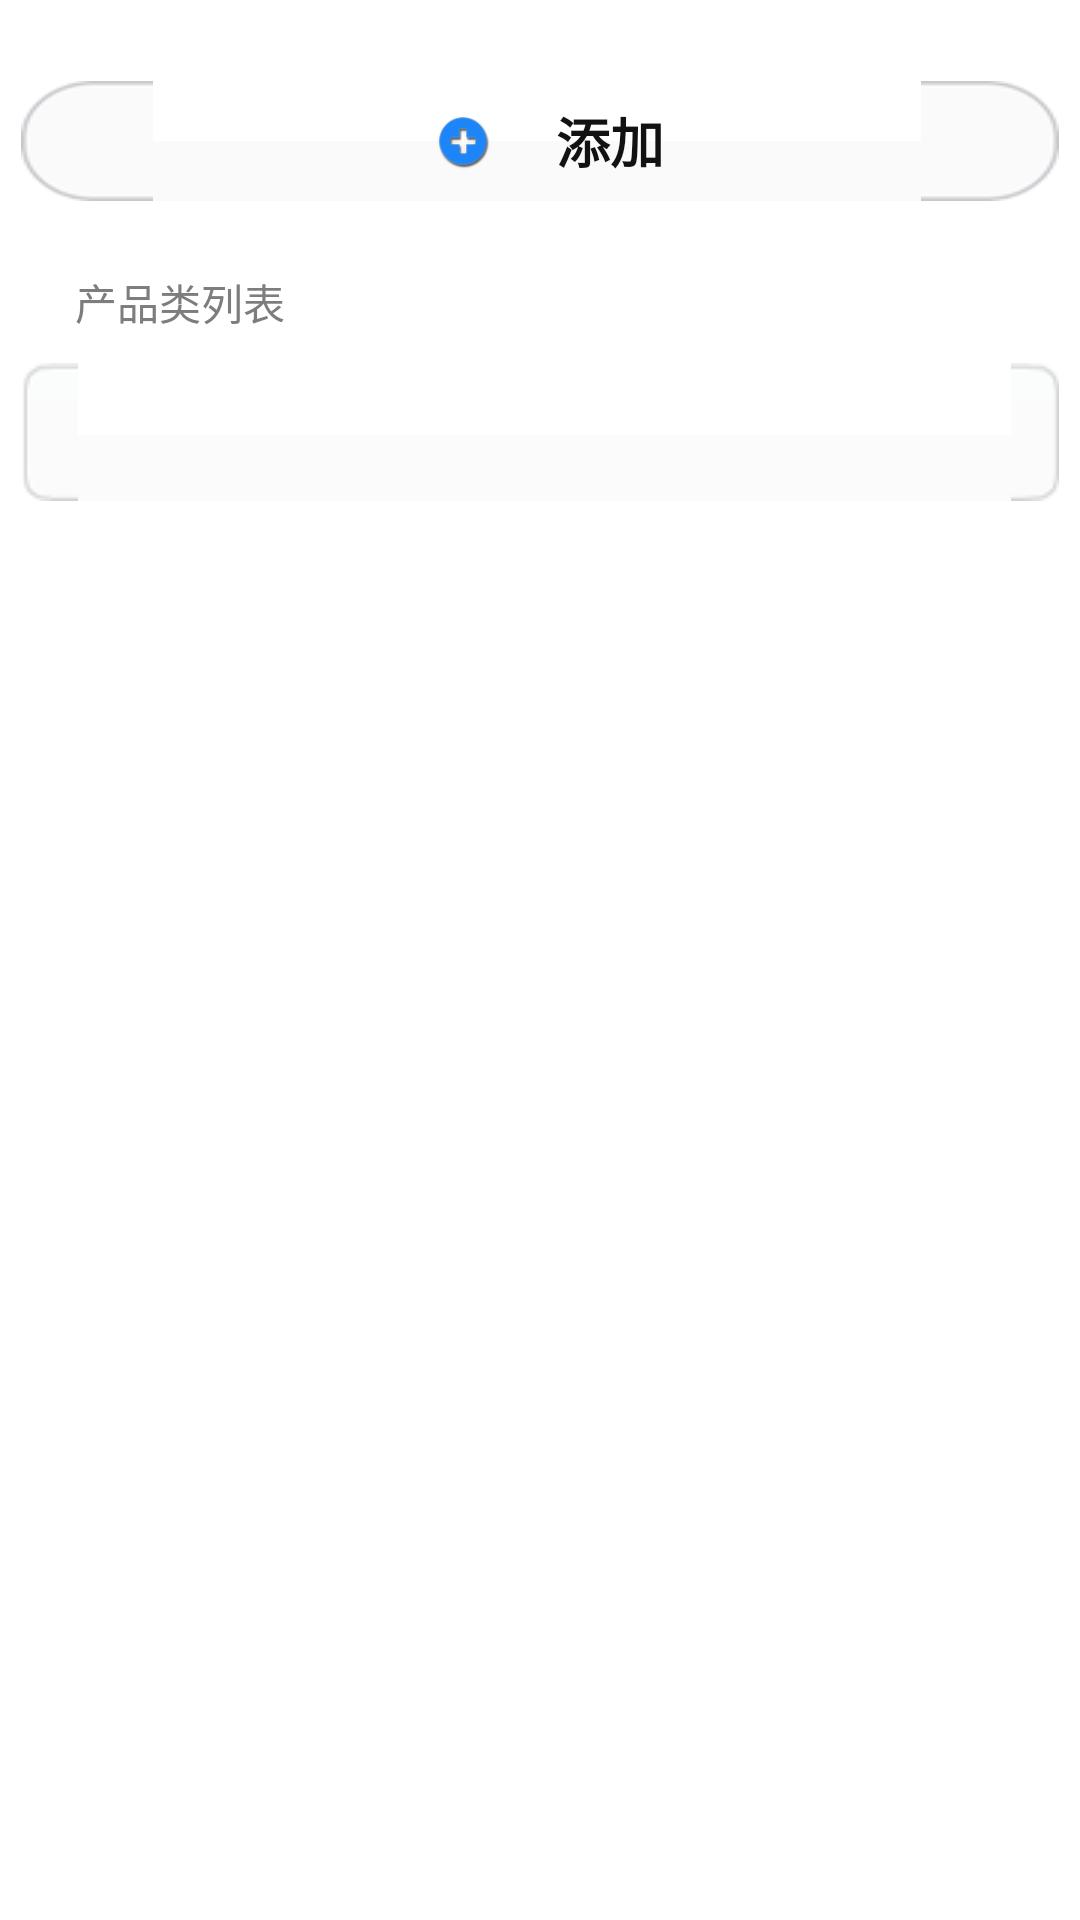

Where to tap for icons on this 1080px×1920px app screen, as (x,y):
add: (464,142)
